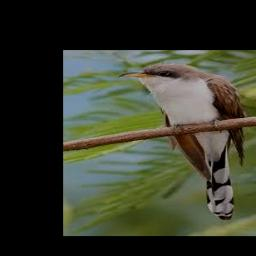Cuckoo: (119, 63, 245, 220)
